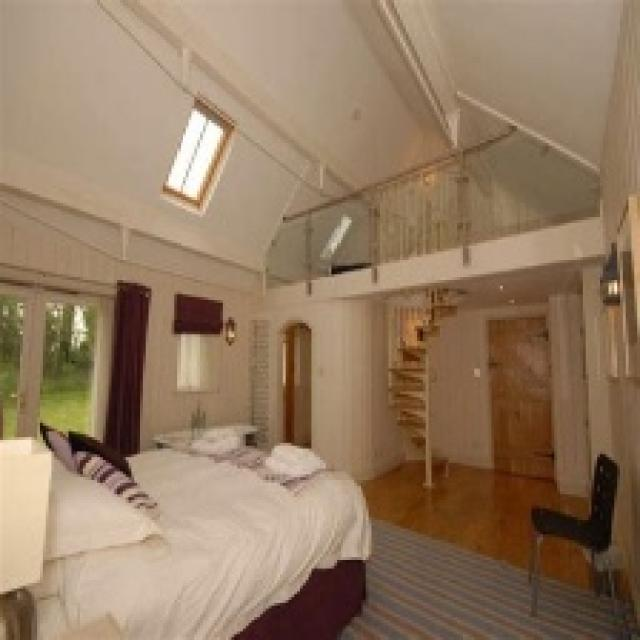Bed: (0, 422, 371, 637)
